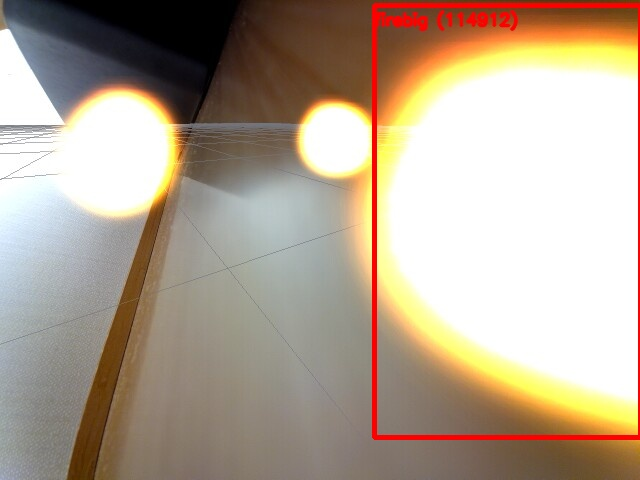firebig: (374, 5, 640, 437)
